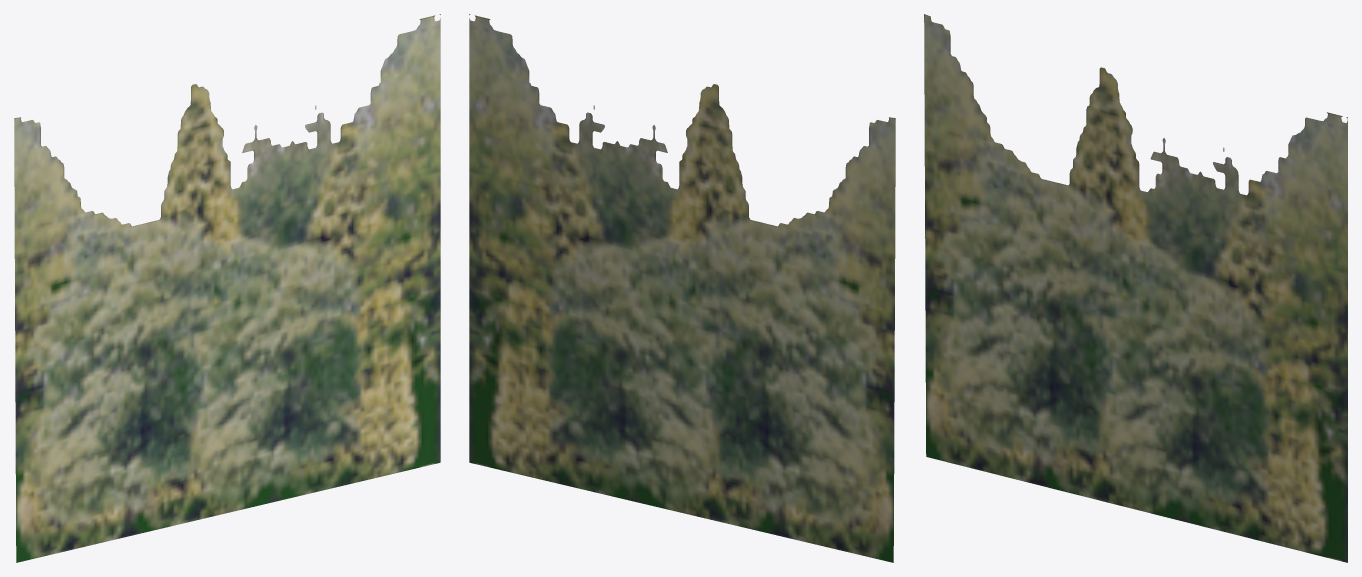
File: forest2.glb
3 views of the same model, side by side, from view 1: azimuth 30°, elevation 25°; view 2: azimuth 150°, elevation 25°; view 3: azimuth 330°, elevation 25° (orthographic).
Visible parts, largest first — view 1: closedline_000; view 2: closedline_000; view 3: closedline_000.
Boxes of the visible parts, bbox=[...] form: closedline_000: bbox=[14, 14, 440, 562]; closedline_000: bbox=[469, 14, 895, 562]; closedline_000: bbox=[924, 14, 1347, 562].
Bounding box in the file's own units: 1.28 × 1.29 × 0.
1 material, 1 textured.
